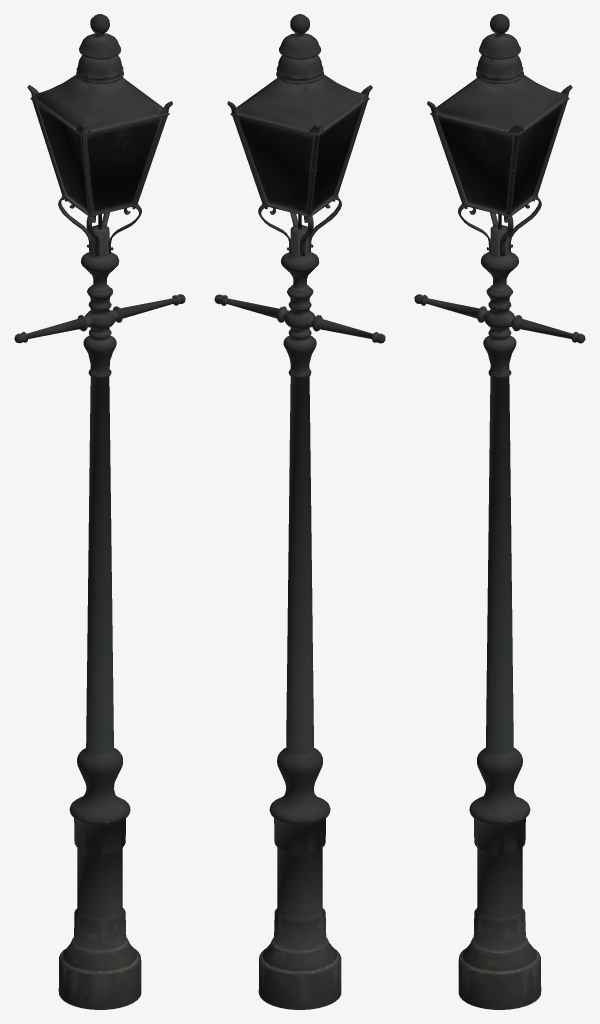
Rendered from street_lamp_01.glb.
The picture shows the model from 3 angles, left to right: view 1: azimuth 30°, elevation 25°; view 2: azimuth 150°, elevation 25°; view 3: azimuth 330°, elevation 25°; orthographic projection.
Parts seen in each view (by area): view 1: street_lamp_01; view 2: street_lamp_01; view 3: street_lamp_01.
Boxes of the visible parts, x1,y1,x2,y2 form: street_lamp_01: [14, 14, 185, 1009]; street_lamp_01: [214, 14, 385, 1009]; street_lamp_01: [414, 14, 585, 1009].
Size of the model in its own units: 0.7035 by 3.87 by 0.386.
2 materials, 2 textured.
